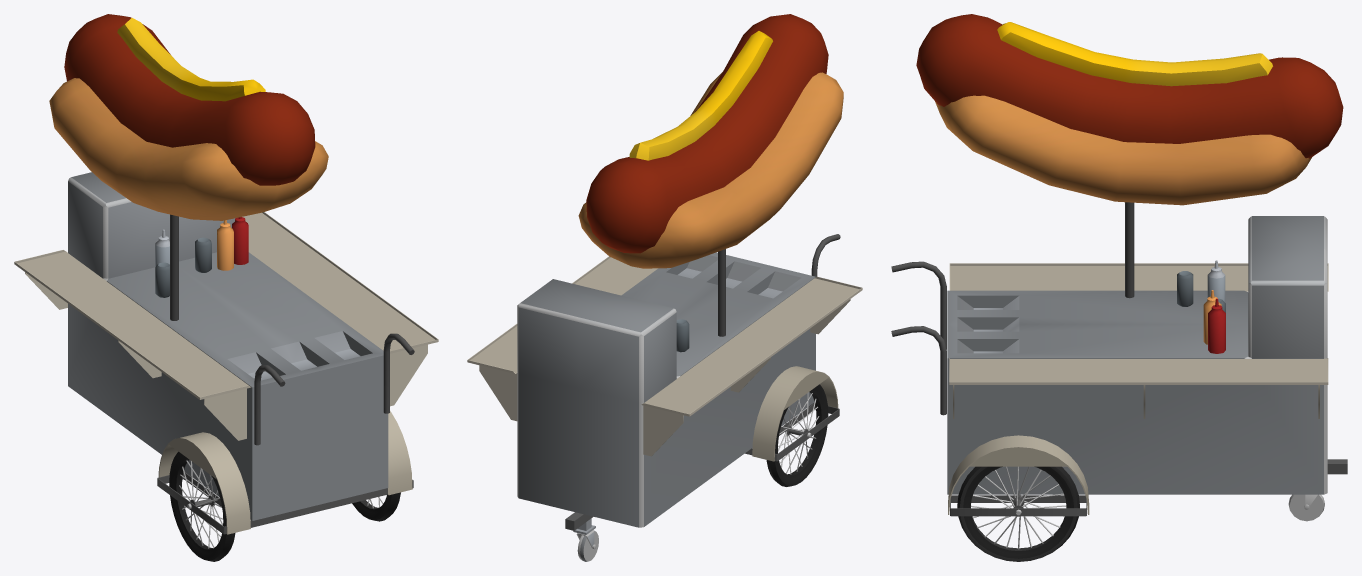
3 views of the same model, side by side, from view 1: azimuth 30°, elevation 25°; view 2: azimuth 150°, elevation 25°; view 3: azimuth 270°, elevation 25° (orthographic). The views are drawn at different scales.
Parts seen in each view (by area): view 1: HotDog_Stand_HotDog_Stand_0; view 2: HotDog_Stand_HotDog_Stand_0; view 3: HotDog_Stand_HotDog_Stand_0.
Part boxes in pixels (bbox=[...]): HotDog_Stand_HotDog_Stand_0: bbox=[14, 14, 438, 561]; HotDog_Stand_HotDog_Stand_0: bbox=[467, 14, 862, 561]; HotDog_Stand_HotDog_Stand_0: bbox=[891, 14, 1347, 561].
Size of the model in its own units: 100 by 189 by 163.
